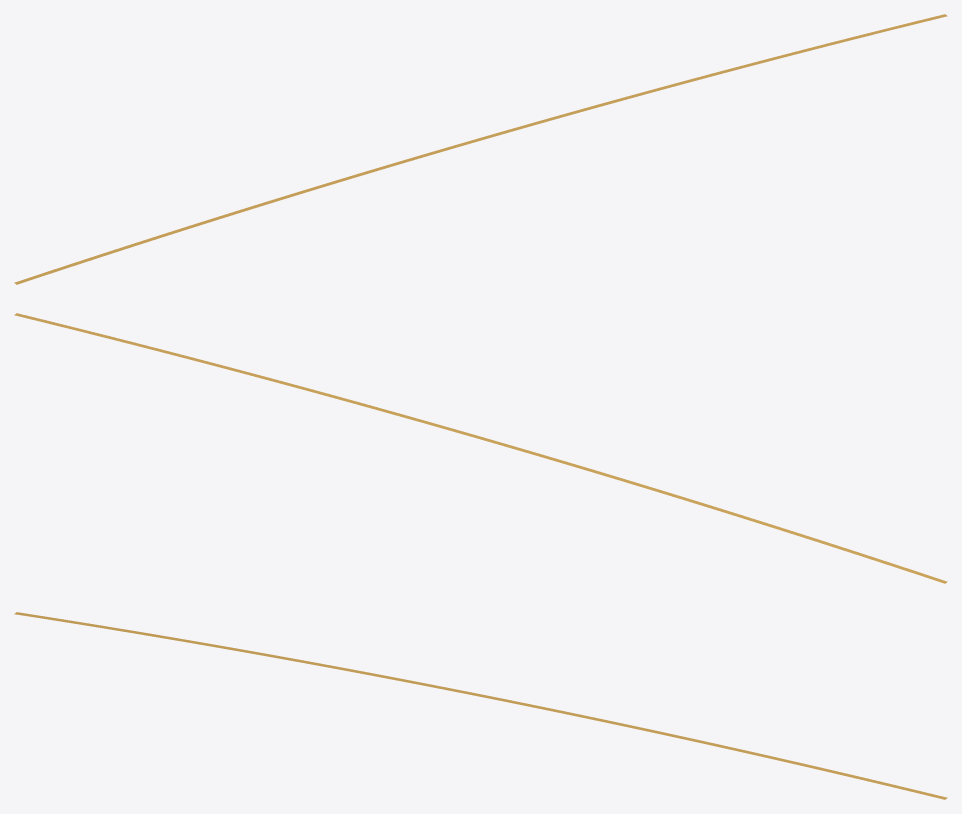
File: RoadPlan_RampMarking_2L_Rise8_L110_UpperVerticalCurve_Center.glb
3 renders of one model, top to bottom at view 1: azimuth 30°, elevation 25°; view 2: azimuth 150°, elevation 25°; view 3: azimuth 330°, elevation 25°, orthographic.
Visible parts, largest first — view 1: RoadPlan_RampMarking_2L_Rise8_L110_UpperVerticalCurve_Center; view 2: RoadPlan_RampMarking_2L_Rise8_L110_UpperVerticalCurve_Center; view 3: RoadPlan_RampMarking_2L_Rise8_L110_UpperVerticalCurve_Center.
Part boxes in pixels (x1,y1,x2,y2): RoadPlan_RampMarking_2L_Rise8_L110_UpperVerticalCurve_Center: (14, 14, 947, 284); RoadPlan_RampMarking_2L_Rise8_L110_UpperVerticalCurve_Center: (14, 313, 947, 583); RoadPlan_RampMarking_2L_Rise8_L110_UpperVerticalCurve_Center: (14, 612, 947, 799).
Size of the model in its own units: 16 by 0.6809 by 0.085.
